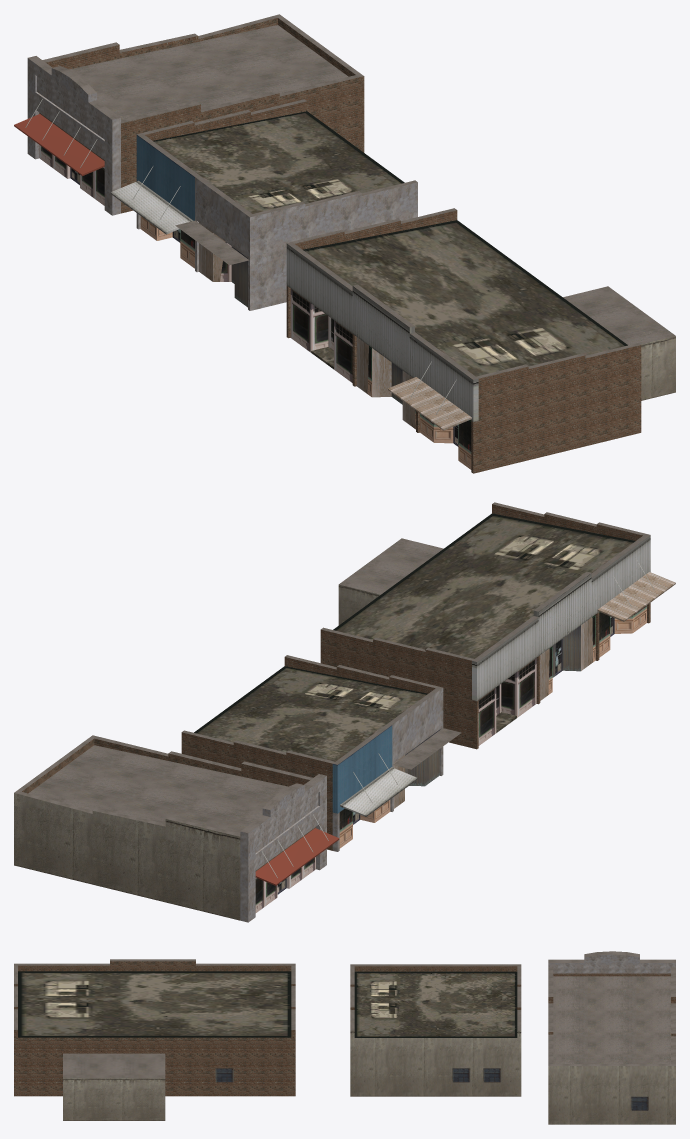
The model's file is des_stwnshop01.obj.
The picture shows the model from 3 angles, top to bottom: view 1: azimuth 30°, elevation 25°; view 2: azimuth 150°, elevation 25°; view 3: azimuth 270°, elevation 25°; orthographic projection. The views are drawn at different scales.
Visible parts, largest first — view 1: des_stwnshop01; view 2: des_stwnshop01; view 3: des_stwnshop01.
Part boxes in pixels (x1,y1,x2,y2): des_stwnshop01: [14, 14, 675, 473]; des_stwnshop01: [14, 502, 675, 922]; des_stwnshop01: [14, 951, 675, 1124].
Bounding box in the file's own units: 19.57 × 7.36 × 54.35.
15 materials, 15 textured.
